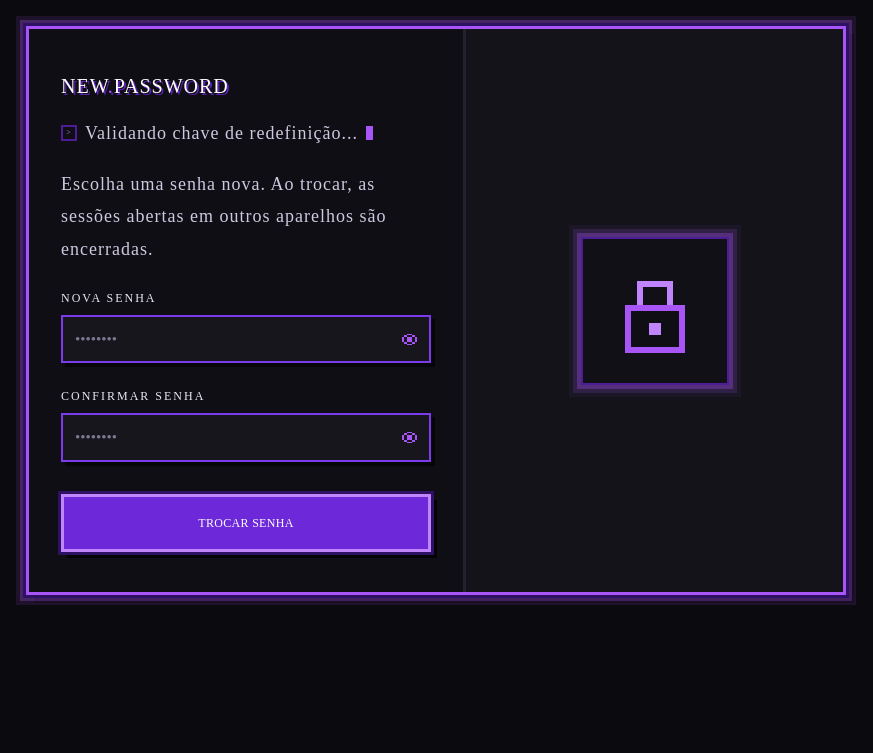
it: PainelNovaSenha › token recusado vira aviso com atalho para pedir outro
Type "Outra-trilha-de-java-7" into the password field labelled "NOVA SENHA" at (234, 339), box [75, 317, 394, 362]
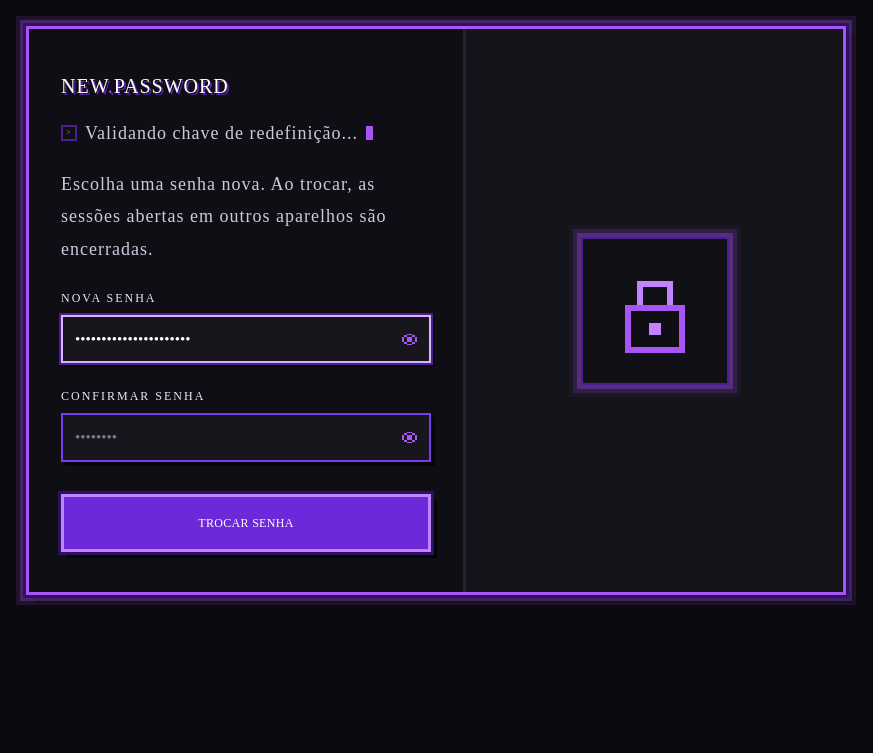
Type "Outra-trilha-de-java-7" into the password field labelled "CONFIRMAR SENHA" at (234, 438), box [75, 416, 394, 460]
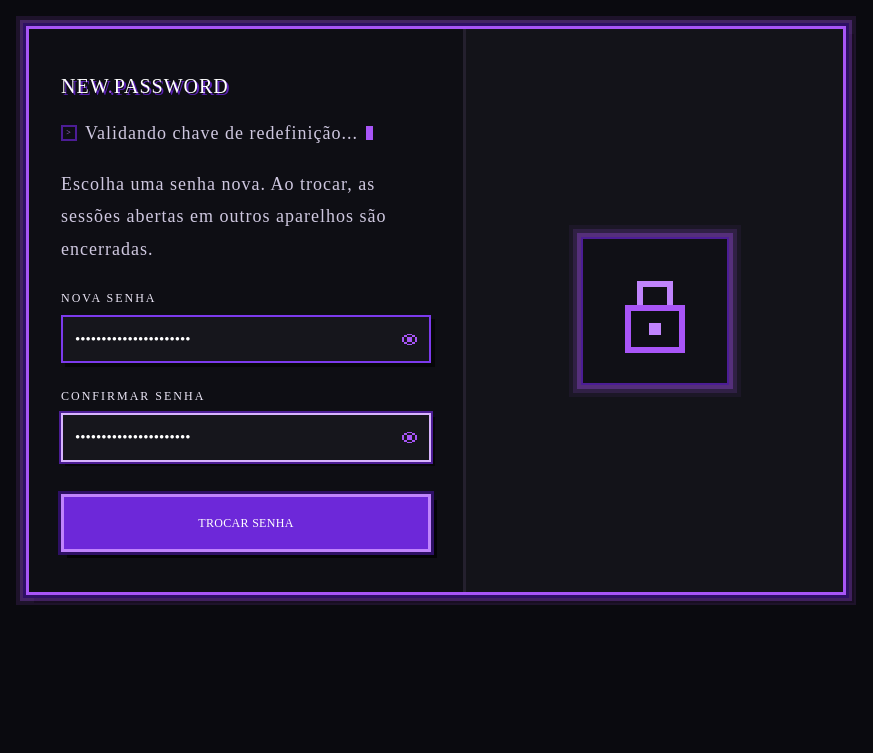
Click the button "TROCAR SENHA" at (246, 523), box [61, 494, 431, 552]
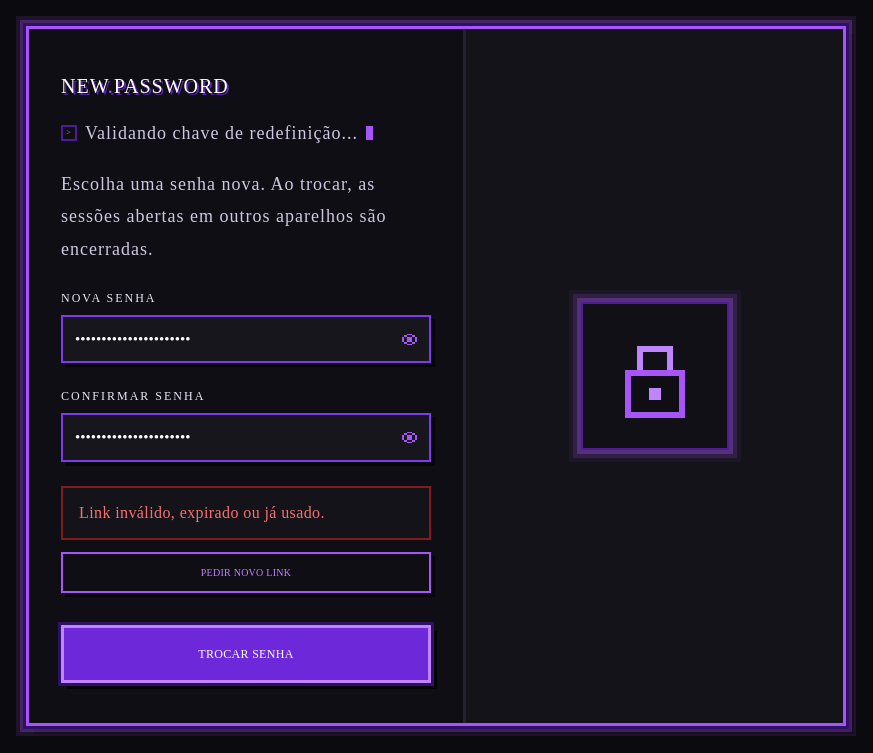
Check: the text "Link inválido, expirado ou já usado." is shown, box [61, 486, 431, 540]
